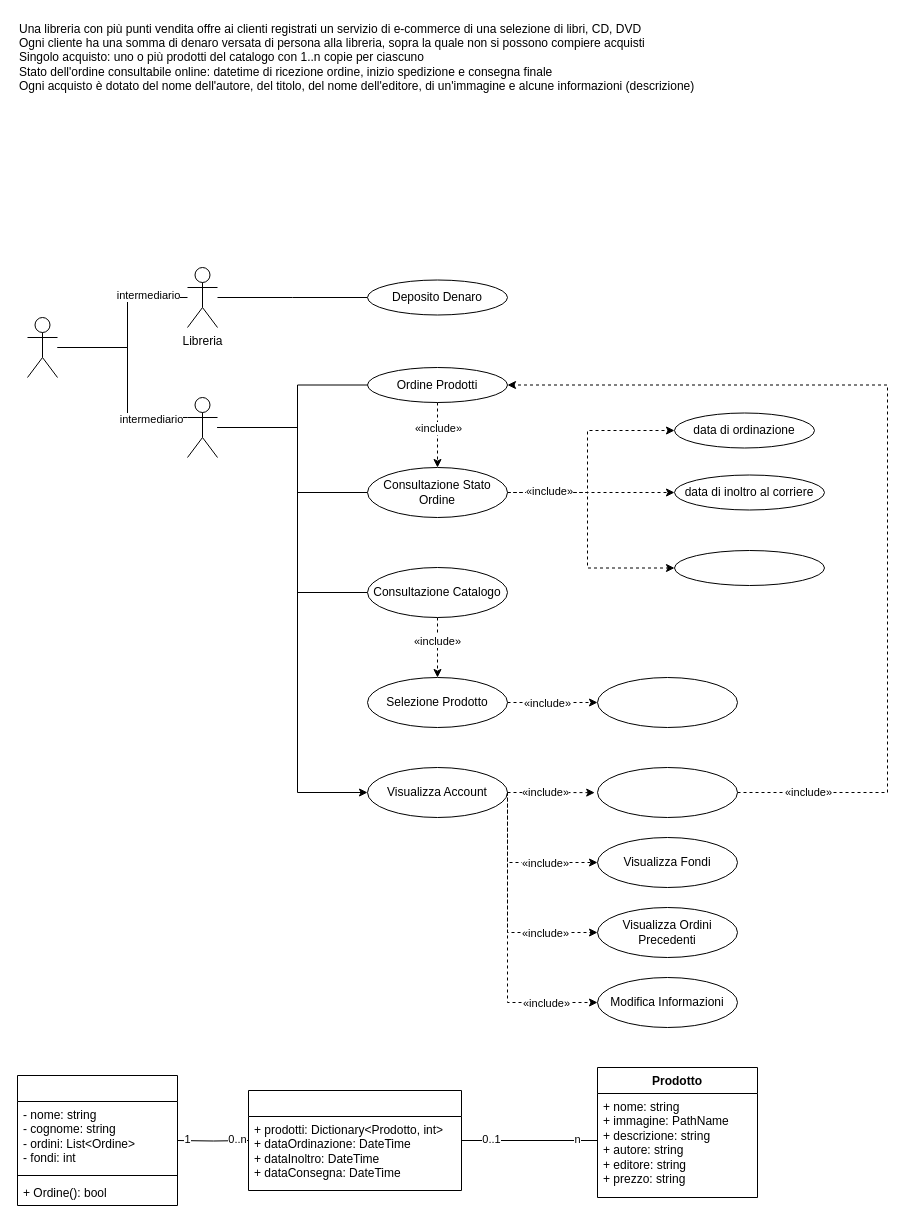
This 913x1225 diagram has some shape labels left out. The shapes that lost their labels are listed below. From the top down, each one's box as (x1, y1, x2, y2) in pixels, then its label:
(26, 316, 58, 378): Utente
(186, 396, 218, 458): Sito web
(674, 550, 824, 586): data di consegna
(596, 676, 738, 728): Aggiungi al carrello
(596, 766, 738, 818): Visualizza Carrello
(16, 1074, 178, 1206): Account
(248, 1090, 462, 1190): Ordine
